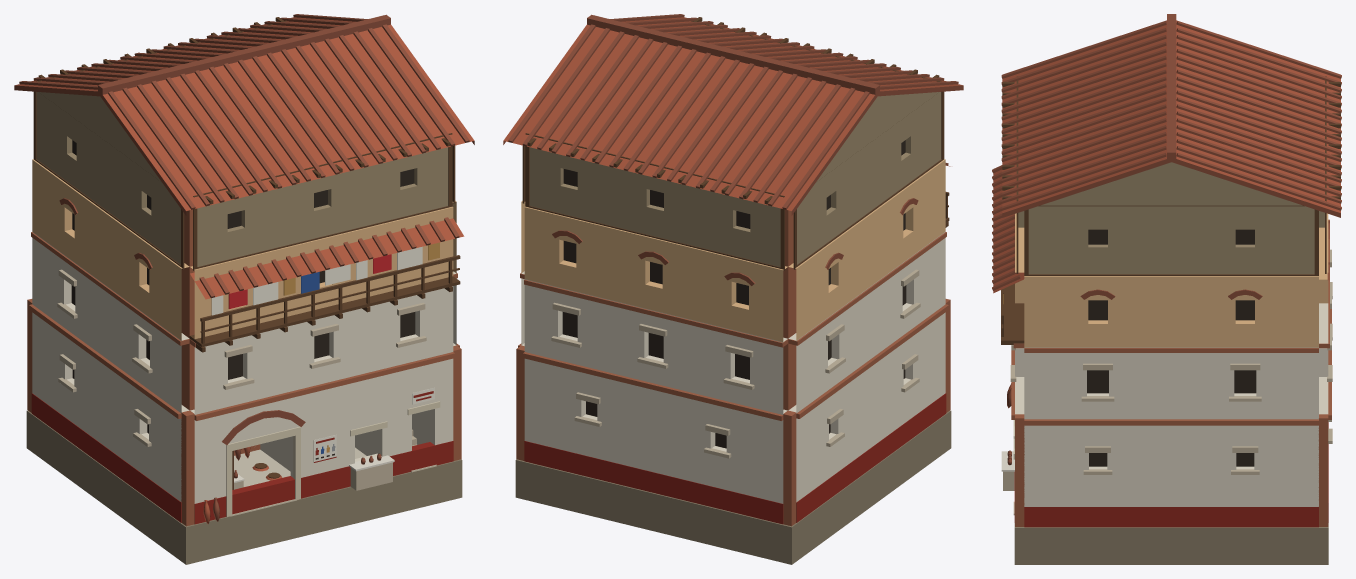
File: rome_insula_q.glb
3 views of the same model, side by side, from view 1: azimuth 30°, elevation 25°; view 2: azimuth 150°, elevation 25°; view 3: azimuth 270°, elevation 25° (orthographic).
Visible parts, largest first — view 1: rome_insula_q; view 2: rome_insula_q; view 3: rome_insula_q.
Part boxes in pixels (left/top/right/bottom): rome_insula_q: left=14, top=14, right=474, bottom=564; rome_insula_q: left=503, top=14, right=963, bottom=564; rome_insula_q: left=992, top=14, right=1341, bottom=564.
Bounding box in the file's own units: 12.6 × 17.58 × 13.42.
